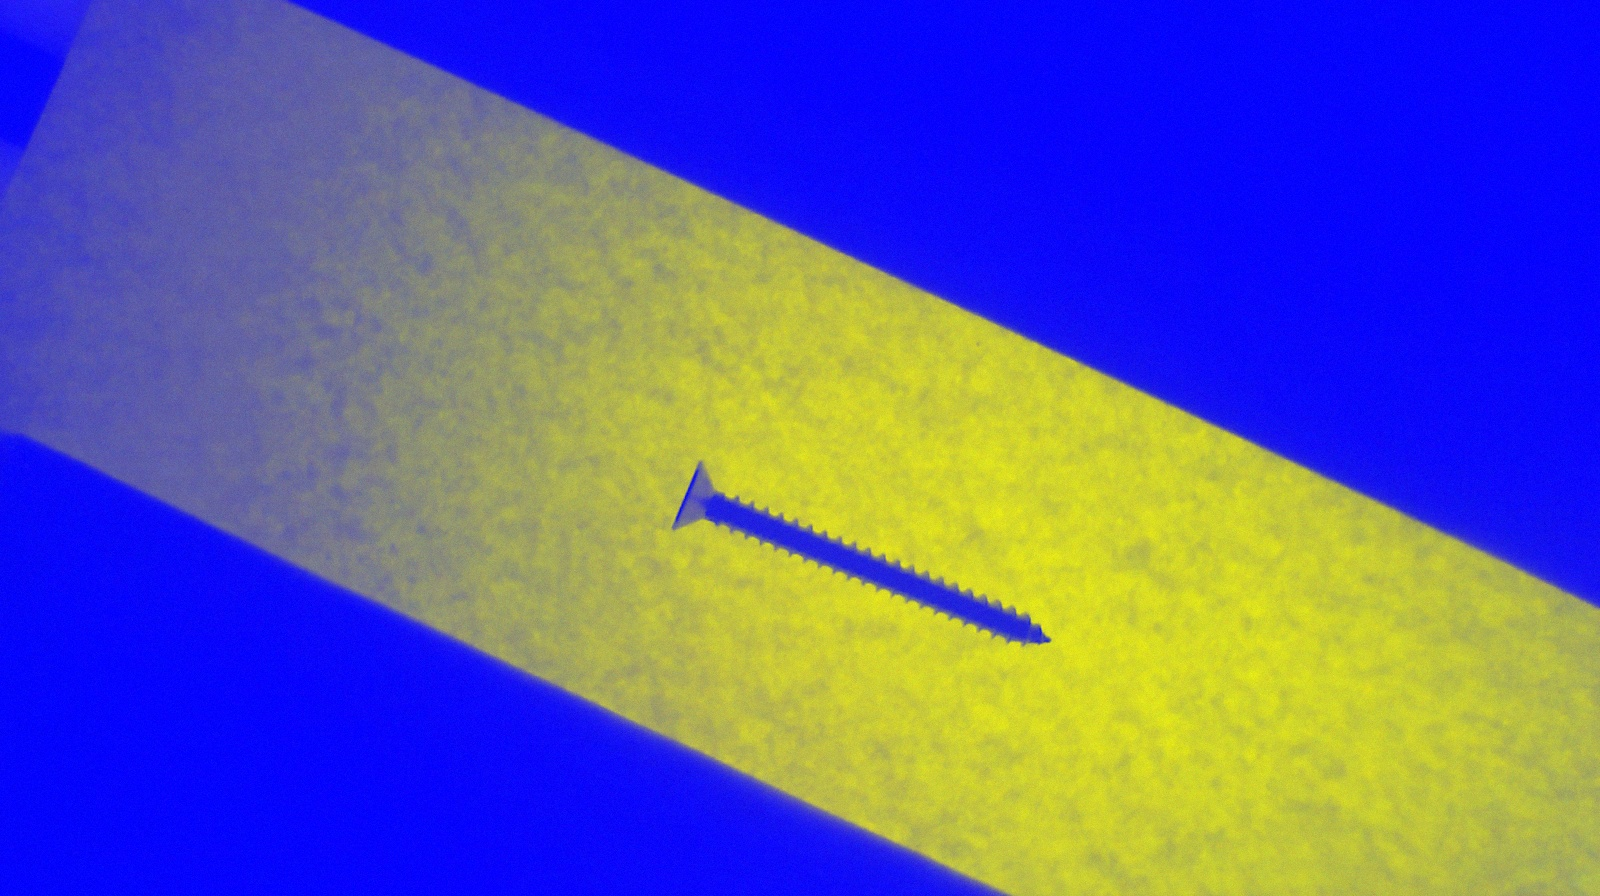S002: (662, 460, 1055, 657)
